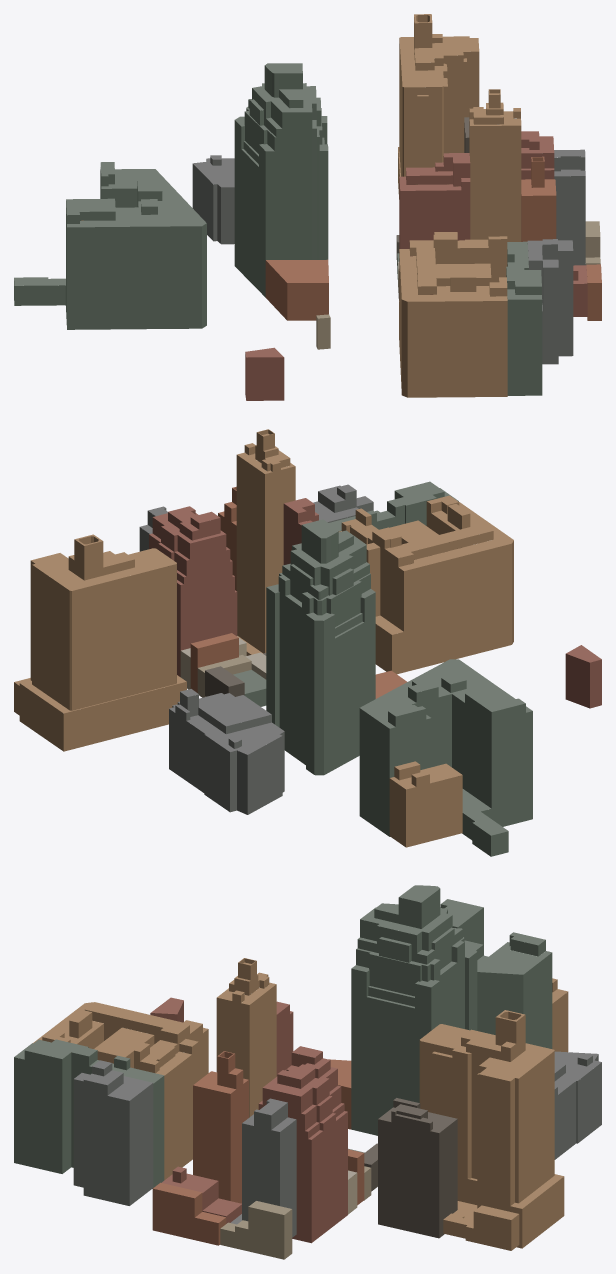
File: tile-4_-12.glb
The picture shows the model from 3 angles, top to bottom: view 1: azimuth 30°, elevation 25°; view 2: azimuth 150°, elevation 25°; view 3: azimuth 270°, elevation 25°; orthographic projection. The views are drawn at different scales.
Visible parts, largest first — view 1: wall, roof; view 2: wall, roof; view 3: wall, roof.
Boxes of the visible parts, box(x1,y1,x2,y2) form: wall: box(14, 15, 601, 400); roof: box(14, 14, 601, 357); wall: box(14, 429, 601, 856); roof: box(14, 429, 601, 835); wall: box(14, 889, 601, 1259); roof: box(14, 885, 601, 1231).
Bounding box in the file's own units: 240 × 105 × 233.
